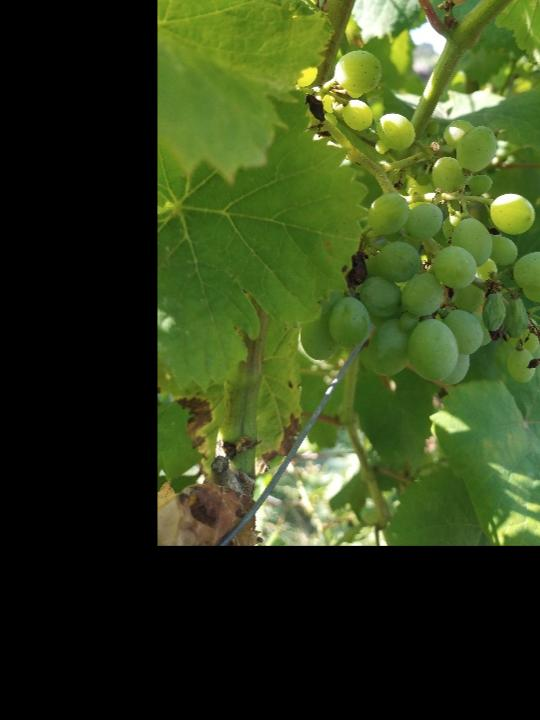grape: (297, 45, 540, 390)
